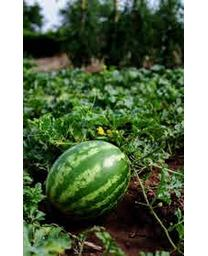watermelon: (44, 141, 133, 217)
